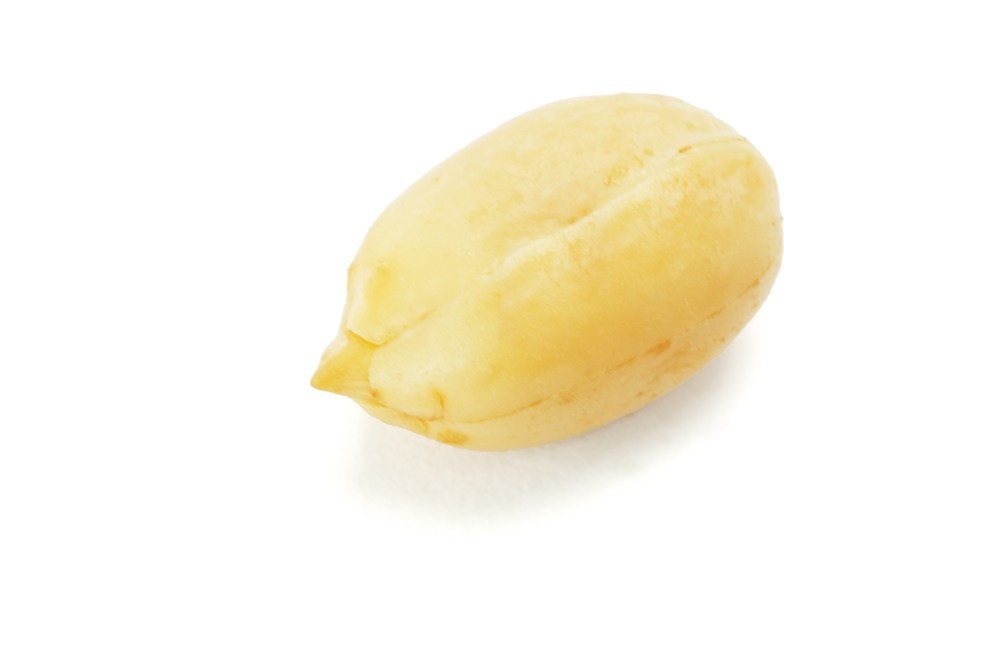peanut: (310, 92, 785, 451)
